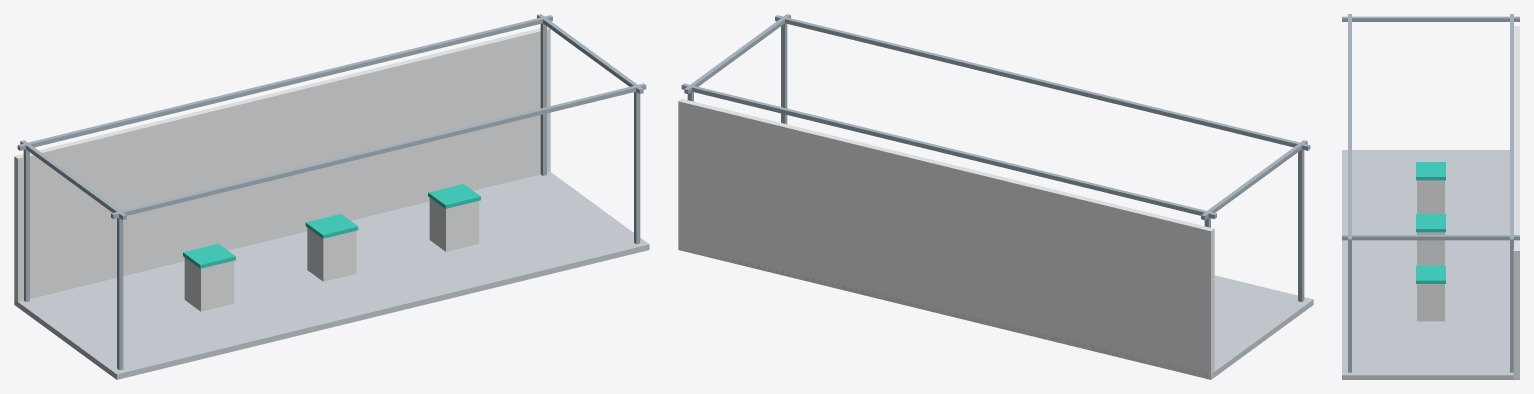
The picture shows the model from 3 angles, left to right: view 1: azimuth 30°, elevation 25°; view 2: azimuth 150°, elevation 25°; view 3: azimuth 270°, elevation 25°; orthographic projection. The views are drawn at different scales.
Visible parts, largest first — view 1: Exhibition Booth Concept; view 2: Exhibition Booth Concept; view 3: Exhibition Booth Concept.
Part boxes in pixels (x1=…): Exhibition Booth Concept: x1=14, y1=14, x2=649, y2=379; Exhibition Booth Concept: x1=678, y1=14, x2=1313, y2=379; Exhibition Booth Concept: x1=1342, y1=14, x2=1519, y2=379.
Size of the model in its own units: 12 by 3.49 by 4.
